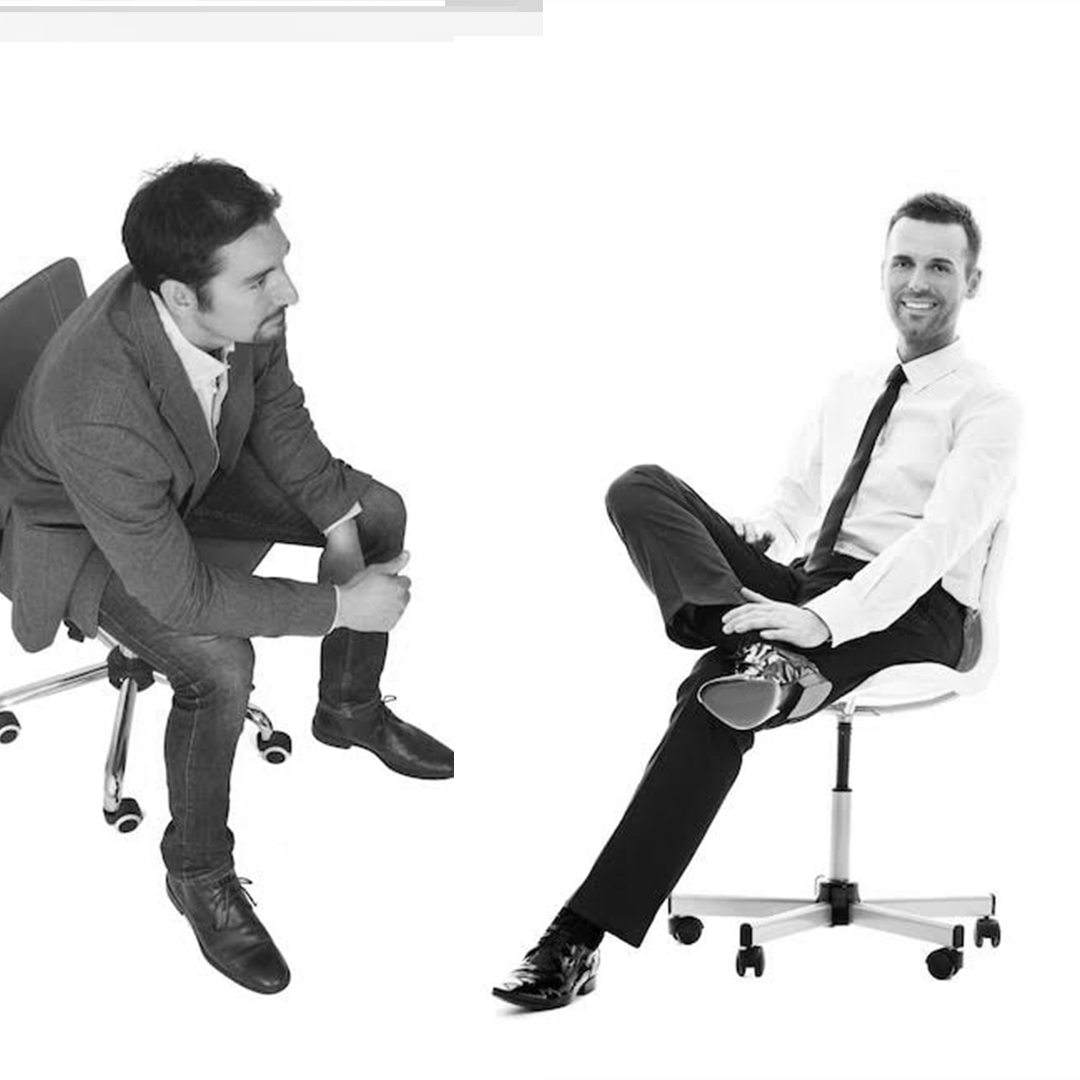Focused: (841, 169, 1012, 553)
distracted: (115, 143, 325, 462)
